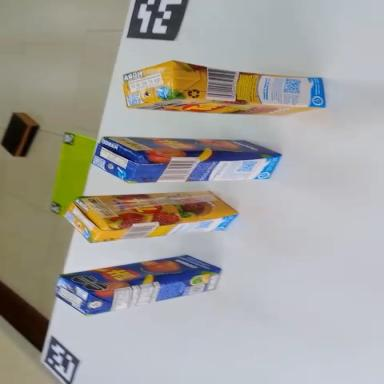HIT-MANGO: (54, 250, 225, 319), (92, 136, 281, 186)
HIT-MORA: (120, 55, 329, 131), (65, 182, 240, 245)
cara_F: (60, 246, 221, 298), (79, 183, 238, 227), (128, 96, 323, 120), (104, 137, 281, 160)
